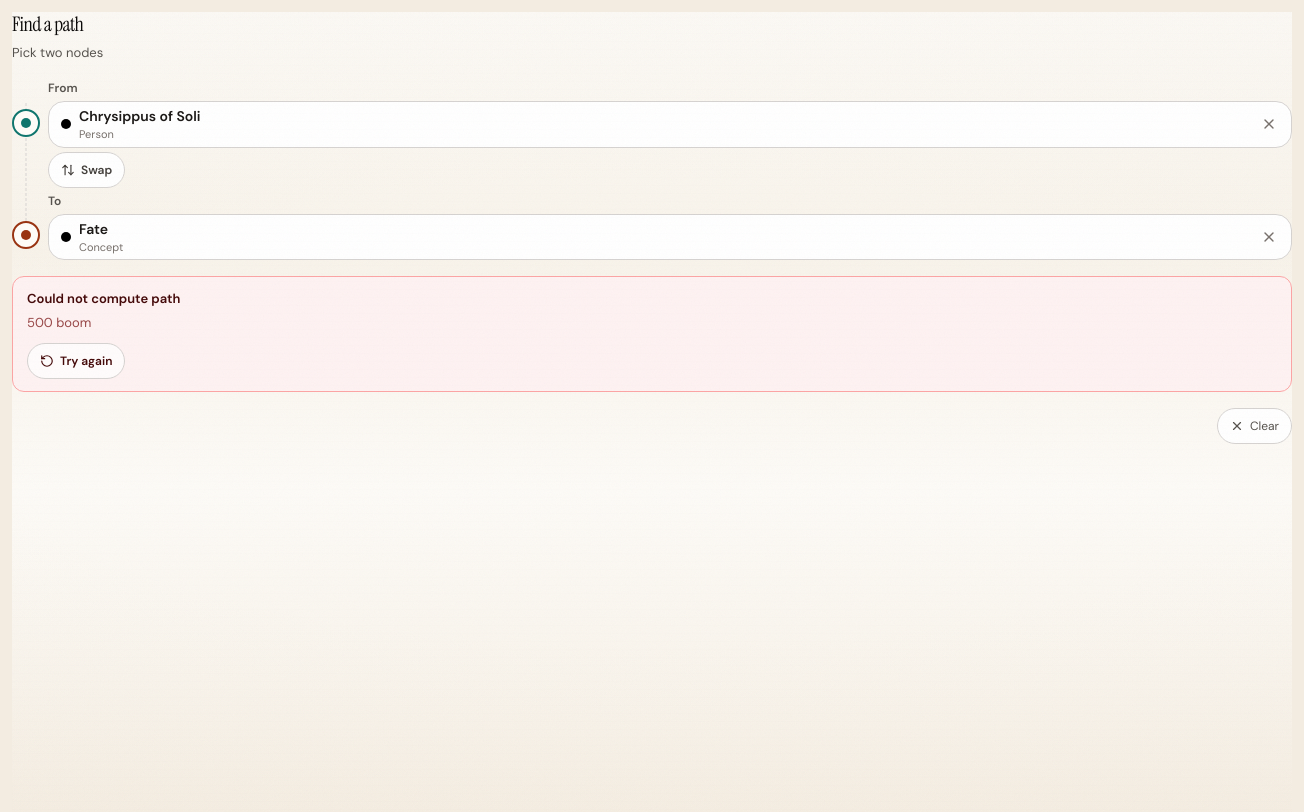
Test case: PathFinder › offers a retry on a server error
The width and height of the screenshot is (1304, 812).
Click the button "Try again". click: click(76, 361)
box: [27, 343, 125, 379]
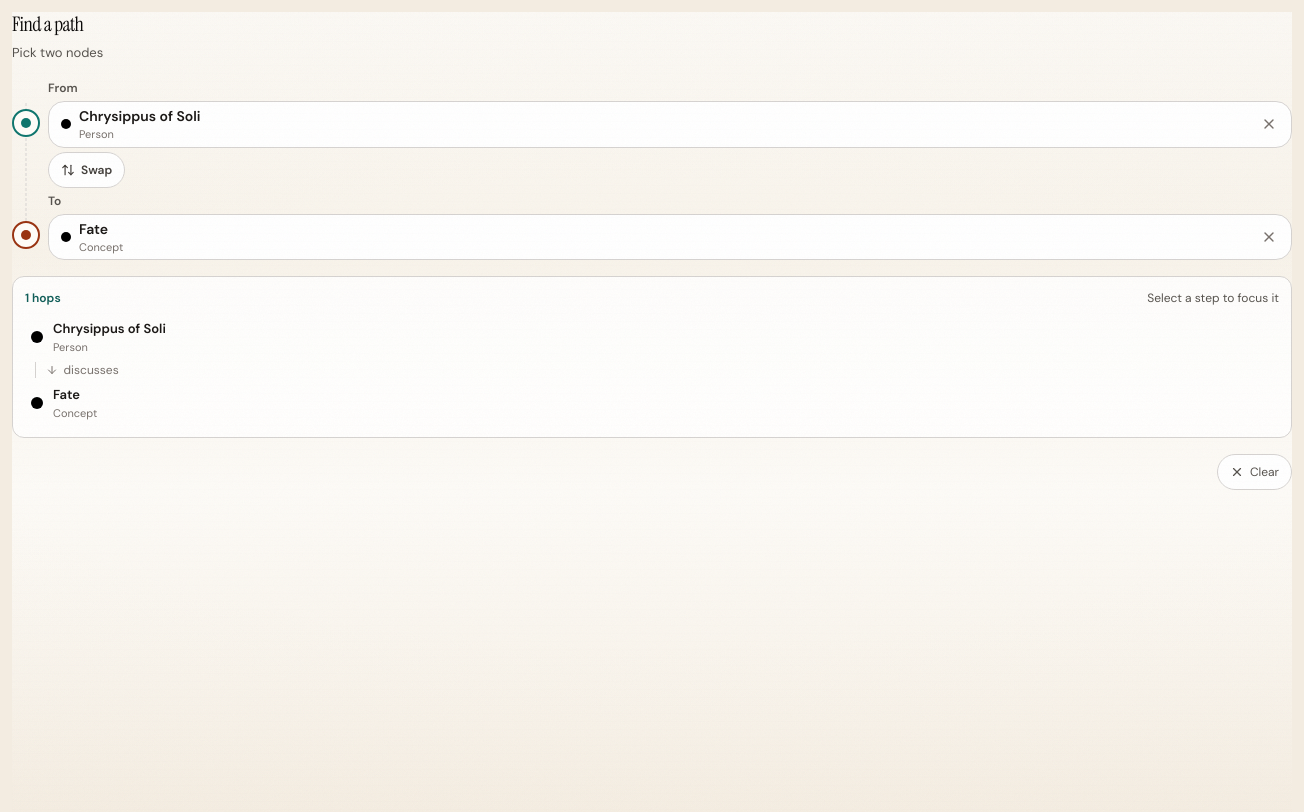
expect the text "1 hops" is shown: met, box [25, 289, 61, 307]
